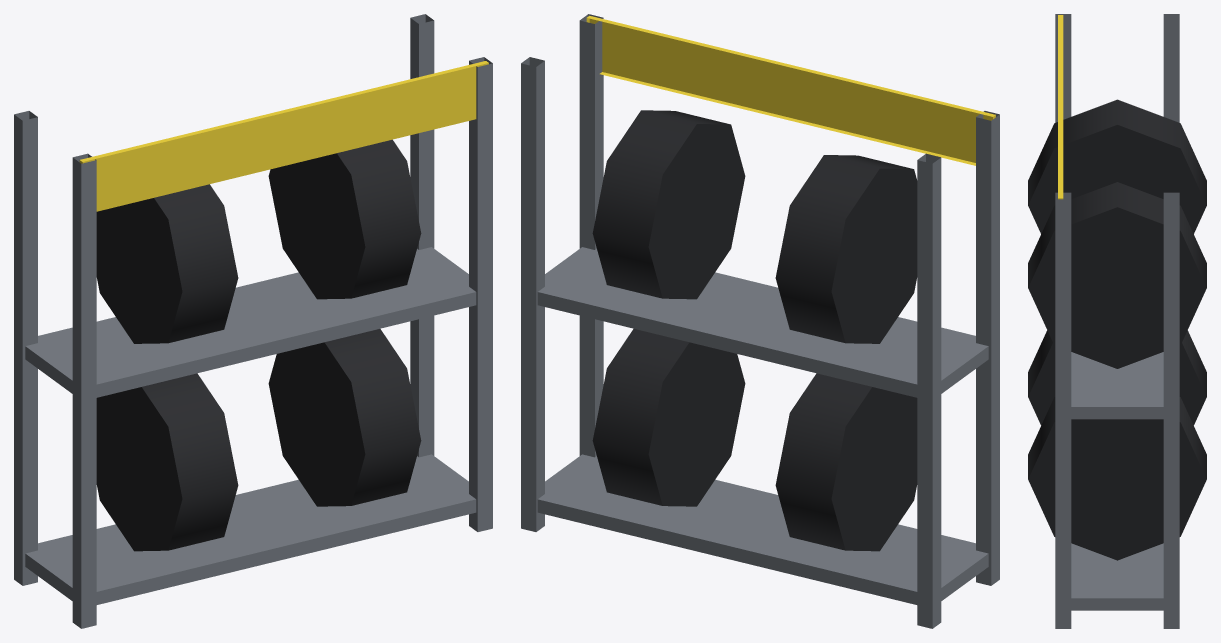
Rendered from site_clutter6.fbx.
3 renders of one model, left to right at view 1: azimuth 30°, elevation 25°; view 2: azimuth 150°, elevation 25°; view 3: azimuth 270°, elevation 25°, orthographic. The views are drawn at different scales.
Parts seen in each view (by area): view 1: a1019/0/site_clutter6; view 2: a1019/0/site_clutter6; view 3: a1019/0/site_clutter6.
Part boxes in pixels (x1=…): a1019/0/site_clutter6: x1=14, y1=14, x2=492, y2=628; a1019/0/site_clutter6: x1=521, y1=14, x2=999, y2=628; a1019/0/site_clutter6: x1=1028, y1=14, x2=1206, y2=628.
Size of the model in its own units: 1.62 by 1.75 by 0.66.
